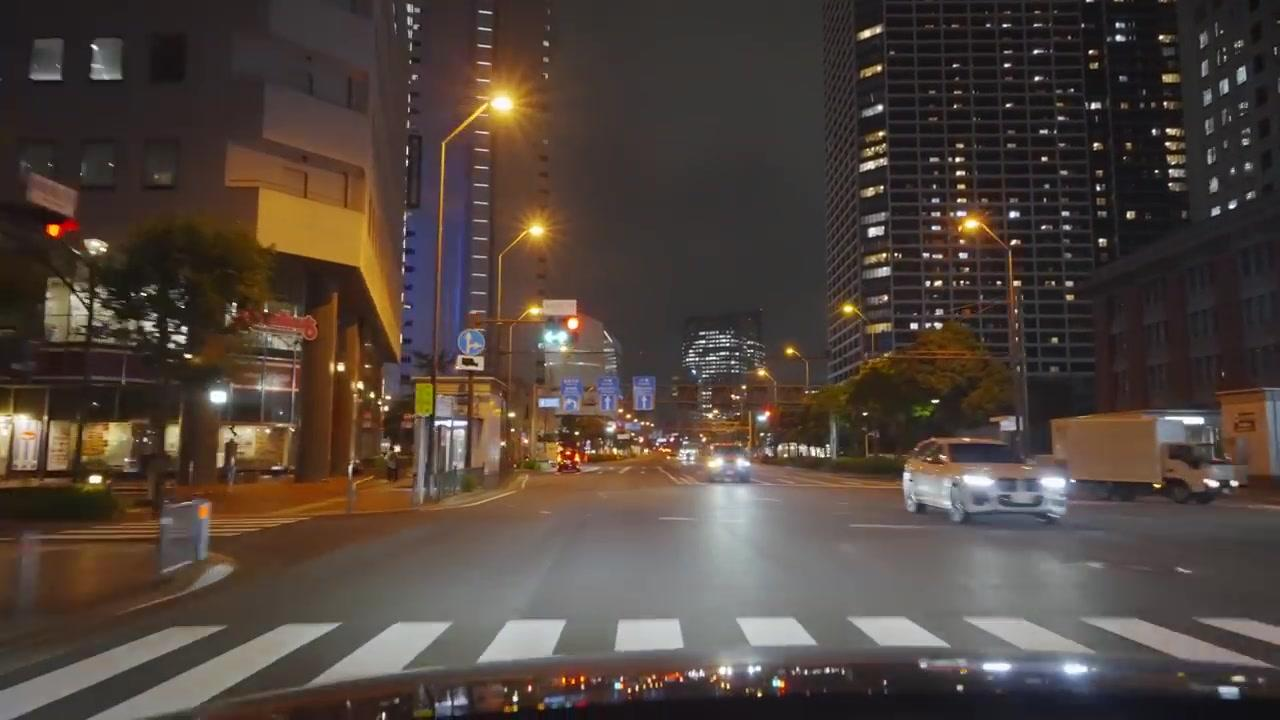car: (901, 435, 1069, 525), (704, 446, 751, 484)
person: (221, 437, 239, 487)
traffic light: (44, 218, 79, 247), (761, 408, 772, 421)
truck: (1051, 412, 1242, 503)
